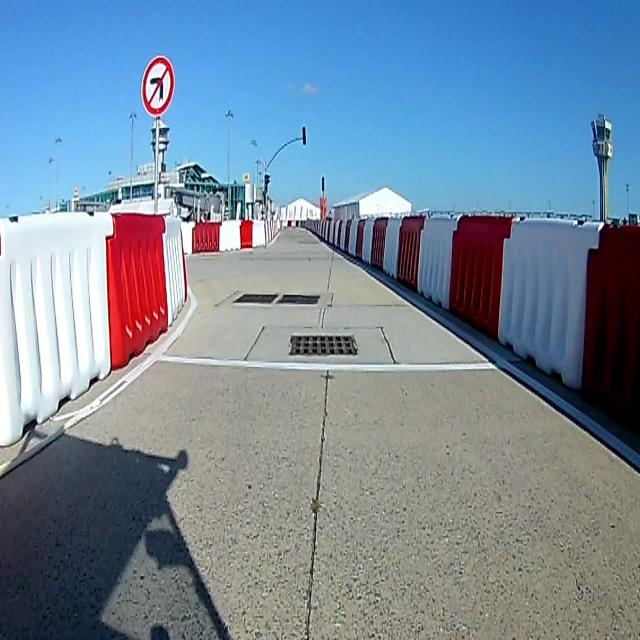soladonulmez: (140, 53, 174, 119)
